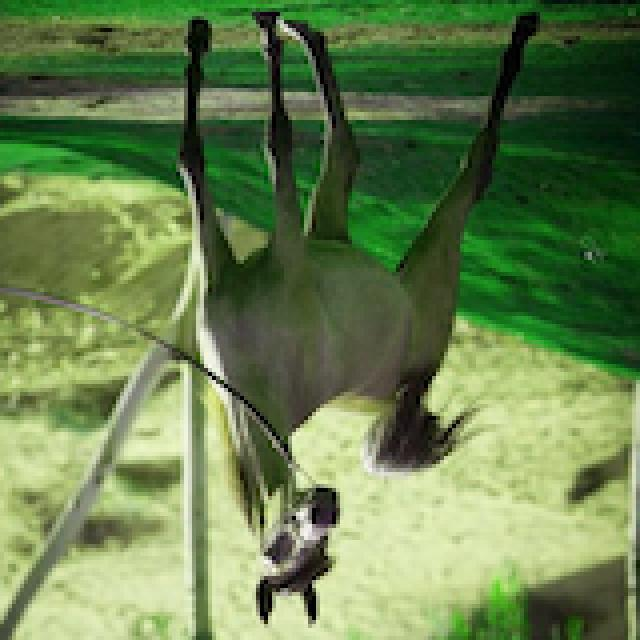Horse: (164, 8, 548, 632)
